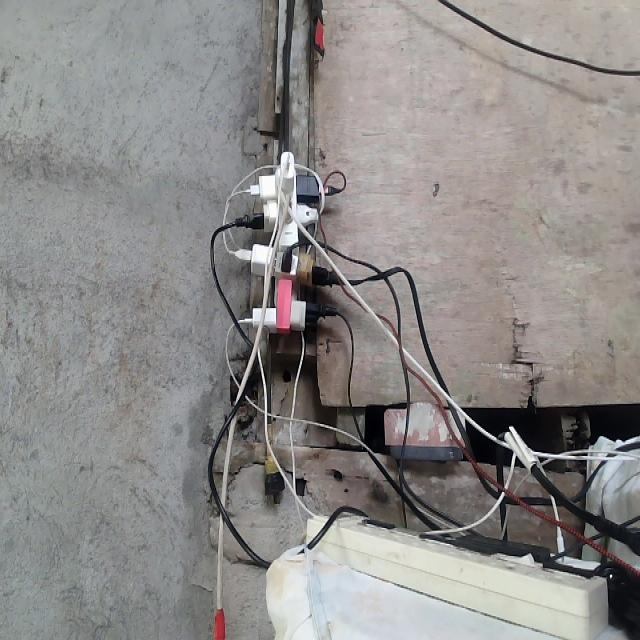-: (200, 137, 368, 348)
